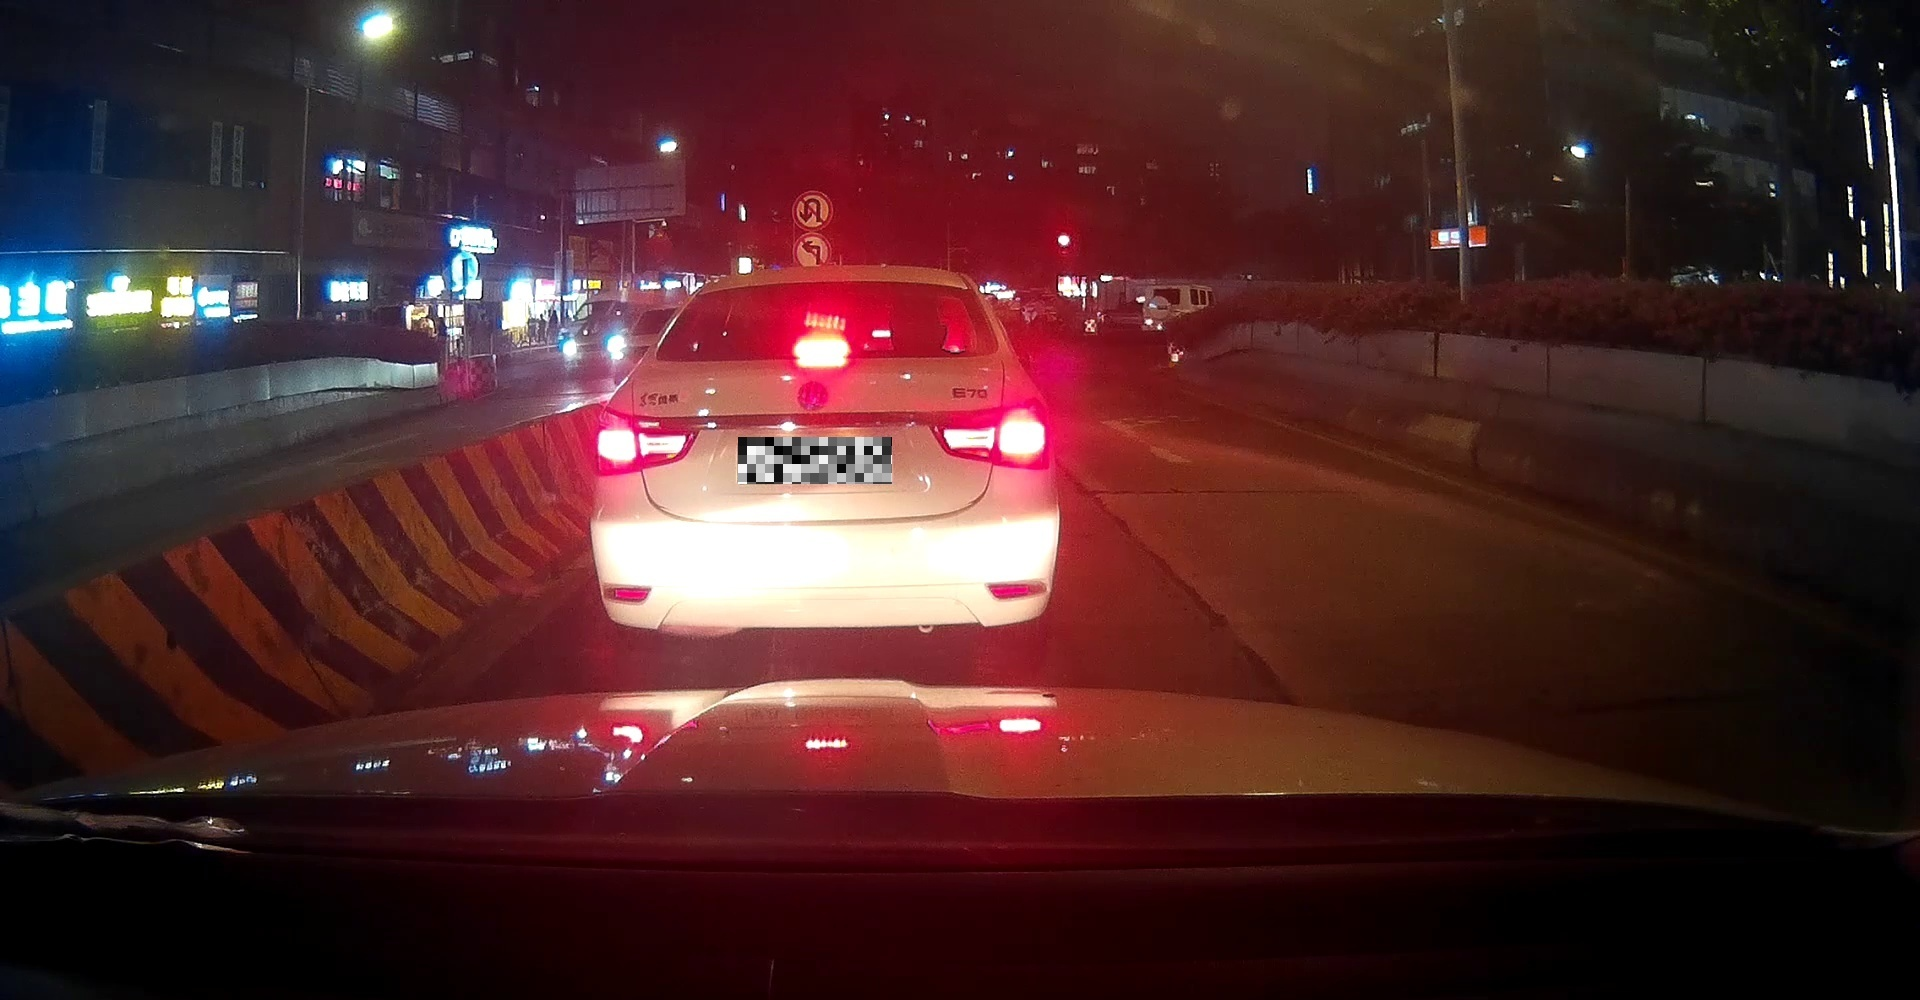L_light: (596, 407, 697, 477)
R_light: (931, 398, 1050, 470)
T_light: (792, 338, 848, 358)
night-brake: (590, 266, 1058, 652)
plate_1: (738, 437, 891, 484)
